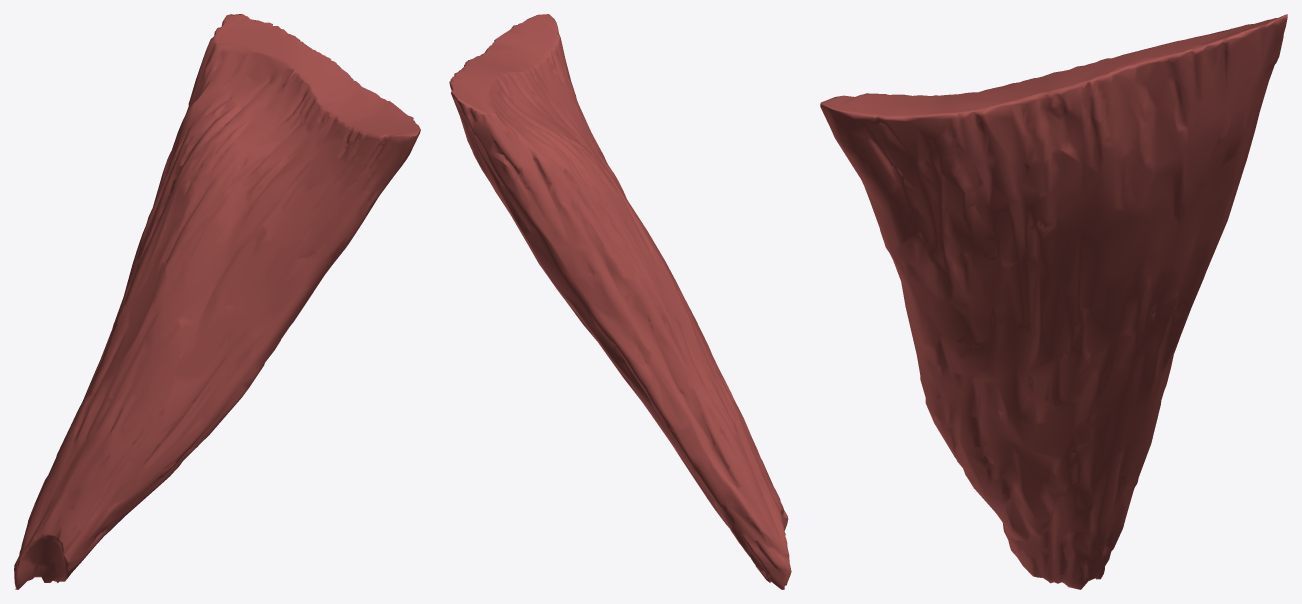
Rendered from FMA32531.glb.
3 renders of one model, left to right at view 1: azimuth 30°, elevation 25°; view 2: azimuth 150°, elevation 25°; view 3: azimuth 270°, elevation 25°, orthographic. The views are drawn at different scales.
Visible parts, largest first — view 1: FMA32531; view 2: FMA32531; view 3: FMA32531.
Boxes of the visible parts, x1,y1,x2,y2 form: FMA32531: (14, 14, 420, 589); FMA32531: (449, 14, 791, 589); FMA32531: (820, 14, 1287, 589).
Bounding box in the file's own units: 0.0342 × 0.0452 × 0.0244.
